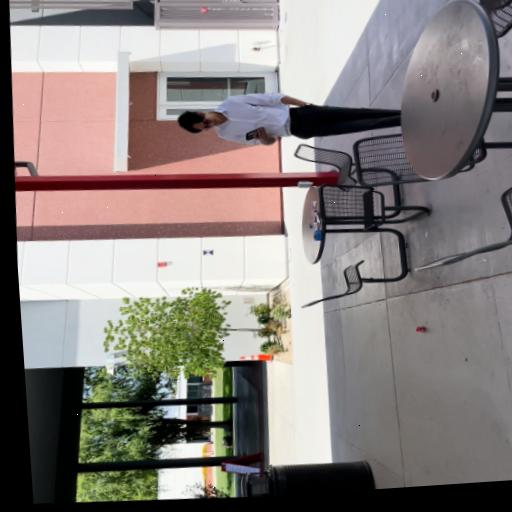target2: (201, 248, 213, 255)
